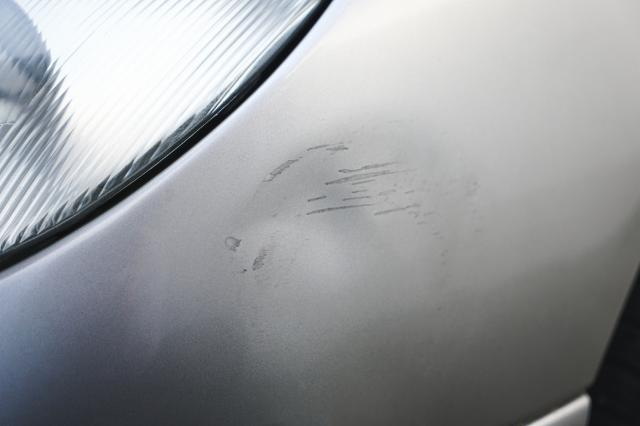dent: (230, 130, 451, 276)
